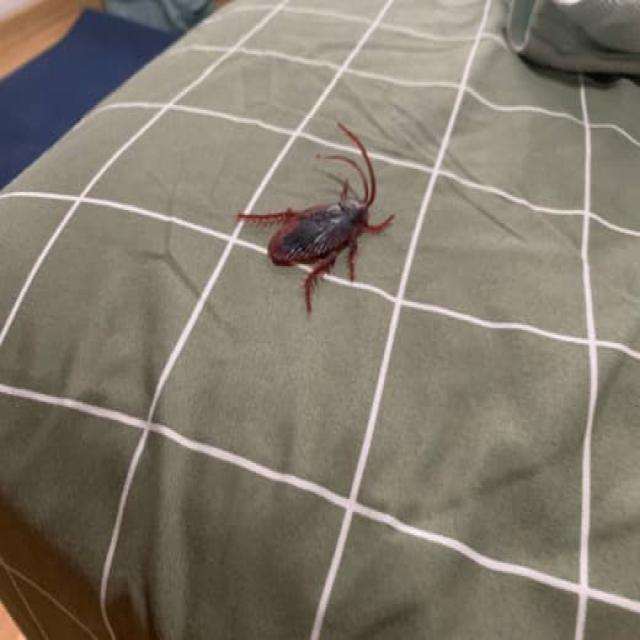Cockroach: (238, 123, 398, 318)
